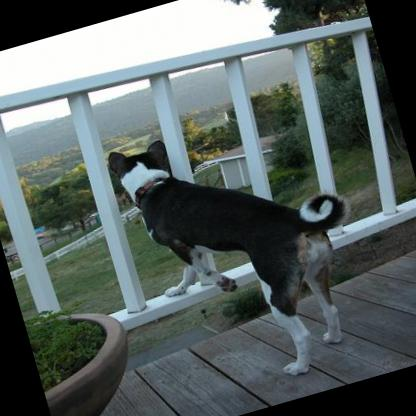basenji: (104, 93, 387, 409)
